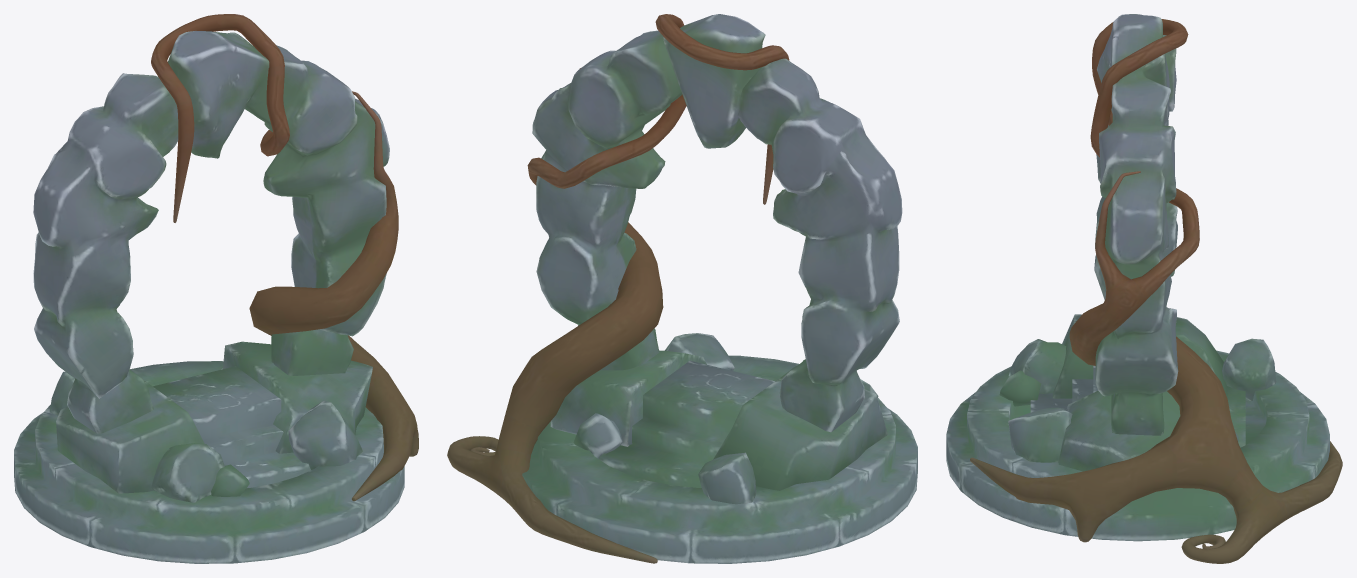
Rendered from портал2.glb.
The picture shows the model from 3 angles, left to right: view 1: azimuth 30°, elevation 25°; view 2: azimuth 150°, elevation 25°; view 3: azimuth 270°, elevation 25°; orthographic projection. The views are drawn at different scales.
Parts seen in each view (by area): view 1: platform__0; view 2: platform__0; view 3: platform__0.
Part boxes in pixels (x1,y1,x2,y2): platform__0: [14, 14, 418, 563]; platform__0: [447, 14, 917, 563]; platform__0: [946, 14, 1342, 563].
Size of the model in its own units: 432 by 480 by 389.
1 material, 1 textured.
